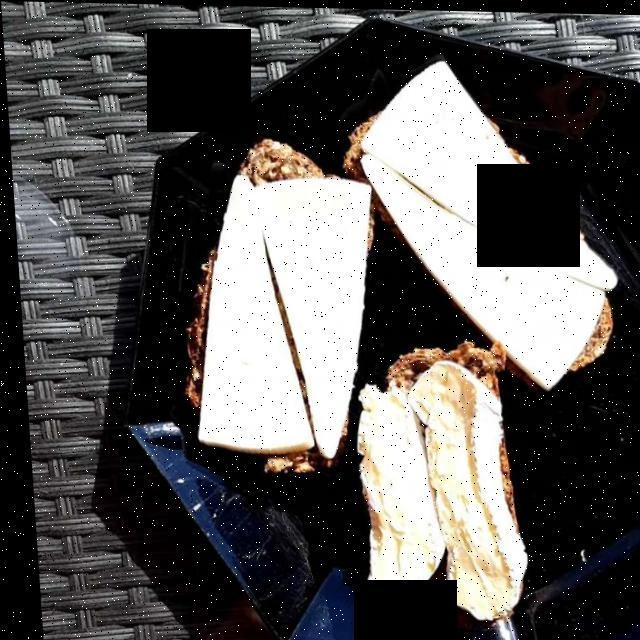cheese: (177, 52, 612, 462), (338, 363, 519, 616)
